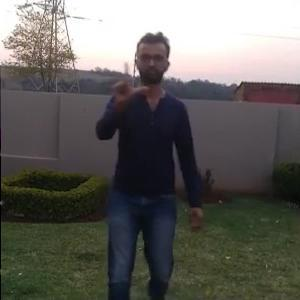land_hand: (105, 57, 149, 105)
